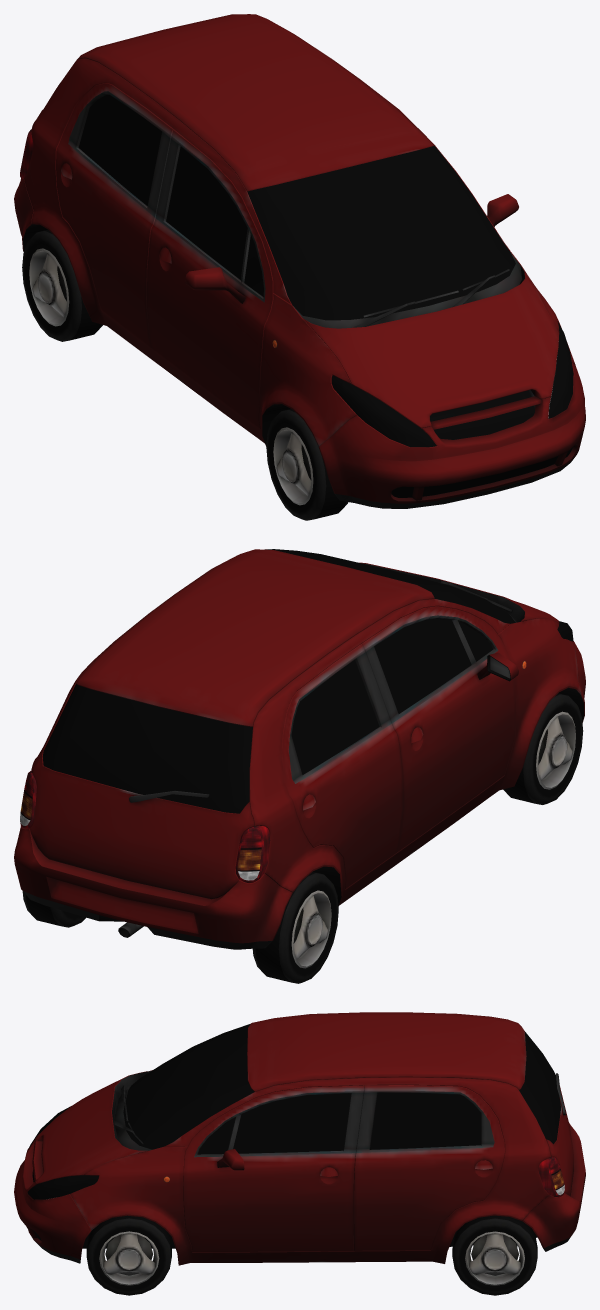
File: compact_red.glb
3 views of the same model, one above another, from view 1: azimuth 30°, elevation 25°; view 2: azimuth 150°, elevation 25°; view 3: azimuth 270°, elevation 25° (orthographic). The views are drawn at different scales.
Visible parts, largest first — view 1: compact body, Front Right Wheel, Rear Right Wheel; view 2: compact body, Rear Right Wheel, Front Right Wheel, Rear Left Wheel; view 3: compact body, Rear Left Wheel, Front Left Wheel.
Boxes of the visible parts, x1,y1,x2,y2 form: compact body: [14, 14, 585, 508]; Front Right Wheel: [266, 409, 348, 520]; Rear Right Wheel: [22, 229, 102, 341]; compact body: [14, 549, 585, 949]; Rear Right Wheel: [252, 871, 338, 983]; Front Right Wheel: [503, 693, 583, 804]; Rear Left Wheel: [22, 891, 85, 927]; compact body: [14, 1012, 585, 1265]; Rear Left Wheel: [452, 1215, 537, 1295]; Front Left Wheel: [86, 1215, 171, 1295].
Bounding box in the file's own units: 1.61 × 1.32 × 3.26.
1 material, 1 textured.
